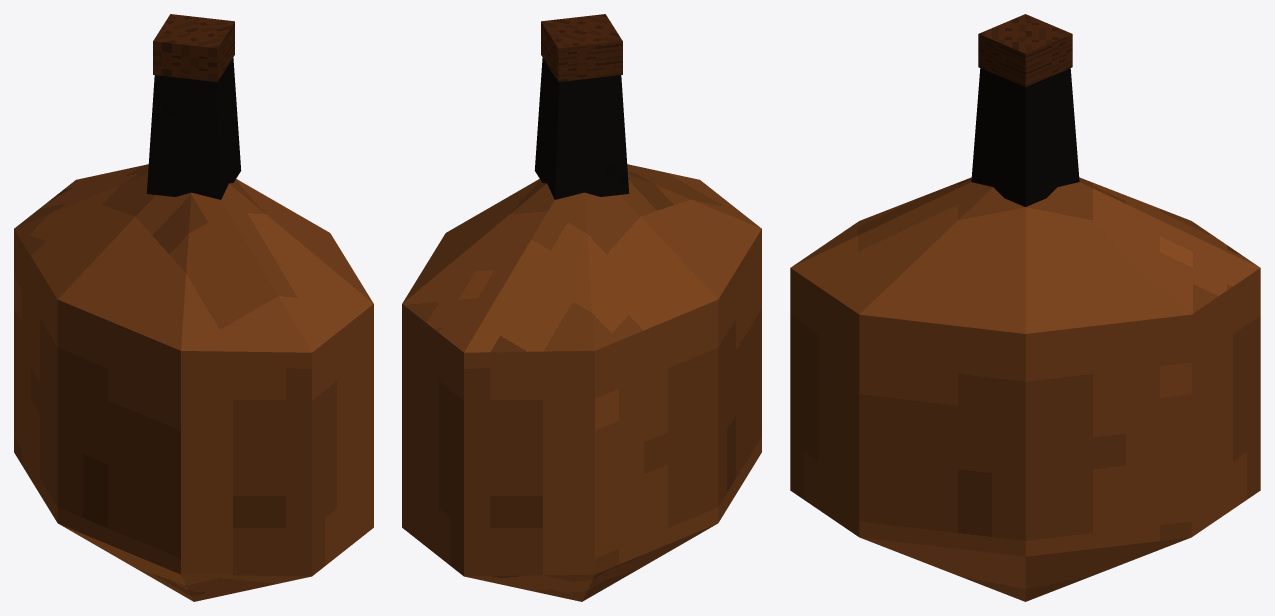
File: odre.glb
The picture shows the model from 3 angles, left to right: view 1: azimuth 30°, elevation 25°; view 2: azimuth 150°, elevation 25°; view 3: azimuth 270°, elevation 25°; orthographic projection.
Parts seen in each view (by area): view 1: bolsa, cuello, tapon; view 2: bolsa, cuello, tapon; view 3: bolsa, cuello, tapon.
Boxes of the visible parts, x1,y1,x2,y2 form: bolsa: [14, 164, 373, 601]; cuello: [146, 58, 241, 199]; tapon: [153, 14, 234, 81]; bolsa: [402, 164, 761, 601]; cuello: [534, 58, 629, 199]; tapon: [541, 14, 622, 81]; bolsa: [790, 177, 1260, 601]; cuello: [971, 68, 1079, 206]; tapon: [978, 14, 1072, 86].
Size of the model in its own units: 0.2 by 0.4 by 0.3.
Materials: 1 (1 with a texture image).
